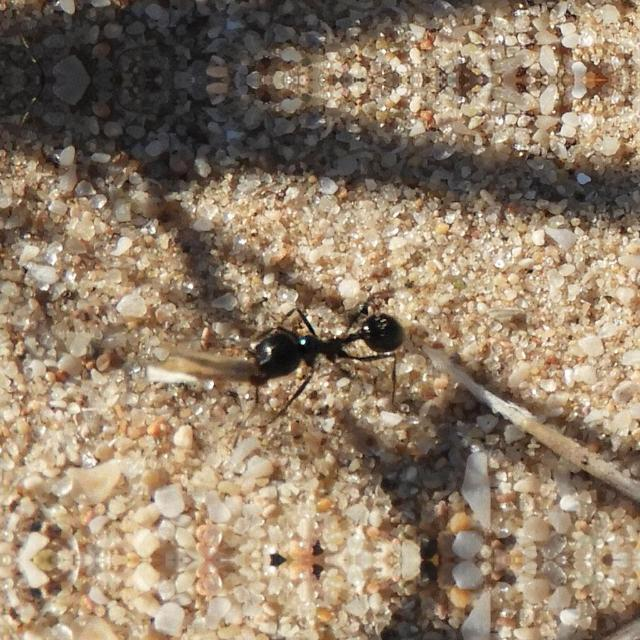Messor: (222, 294, 412, 394)
